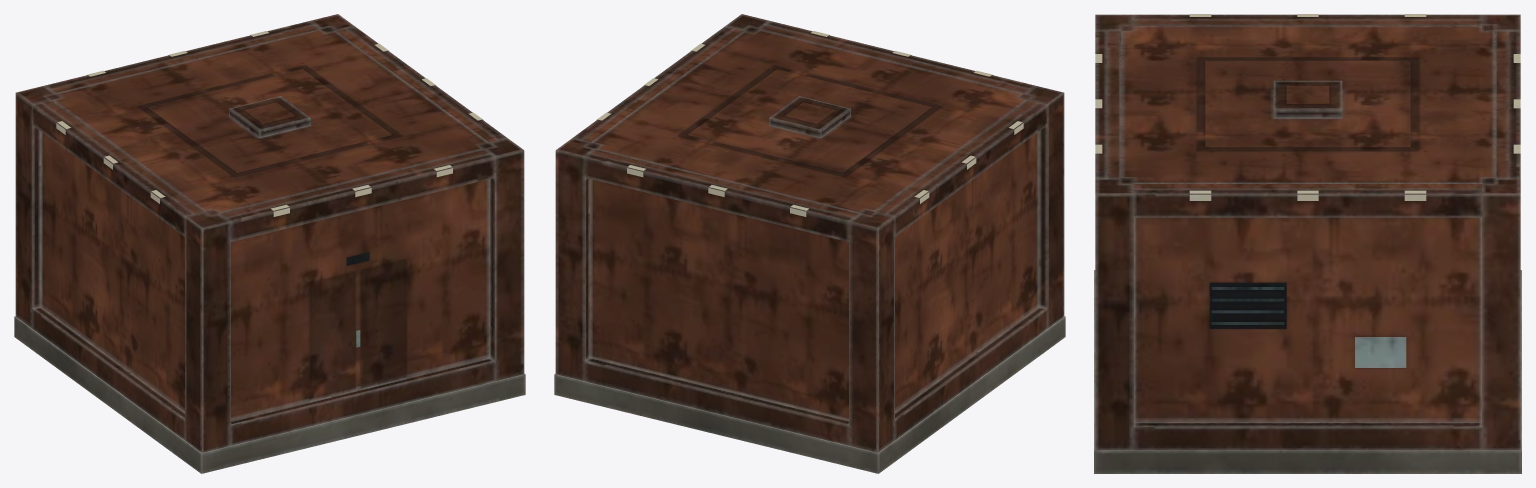
The model's file is hull_starter_closed.glb.
3 views of the same model, side by side, from view 1: azimuth 30°, elevation 25°; view 2: azimuth 150°, elevation 25°; view 3: azimuth 270°, elevation 25° (orthographic). The views are drawn at different scales.
Parts seen in each view (by area): view 1: te_hull_starter_closed; view 2: te_hull_starter_closed; view 3: te_hull_starter_closed.
Part boxes in pixels (bbox=[...]): te_hull_starter_closed: bbox=[14, 14, 525, 473]; te_hull_starter_closed: bbox=[554, 14, 1065, 473]; te_hull_starter_closed: bbox=[1094, 14, 1521, 473].
Bounding box in the file's own units: 1 × 0.7446 × 1.
Materials: 1 (1 with a texture image).
